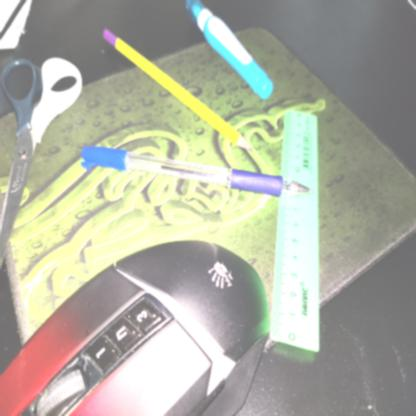Pen: (78, 128, 332, 208)
